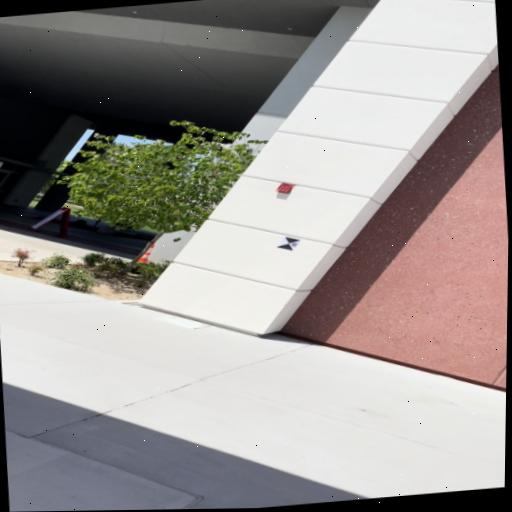target6: (276, 237, 302, 251)
